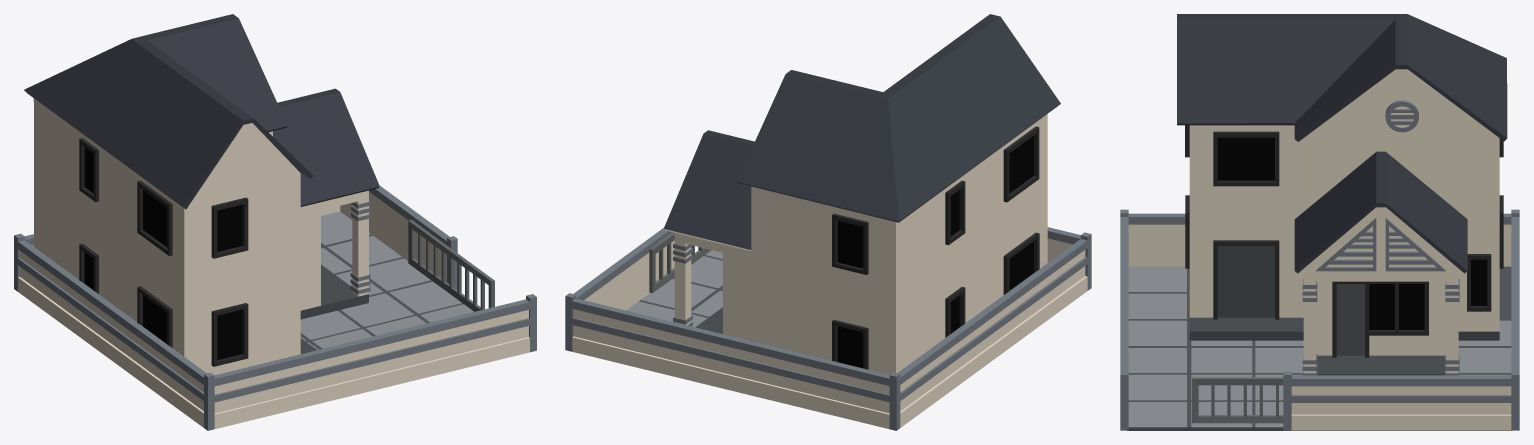
File: house3.glb
The picture shows the model from 3 angles, left to right: view 1: azimuth 30°, elevation 25°; view 2: azimuth 150°, elevation 25°; view 3: azimuth 270°, elevation 25°; orthographic projection. The views are drawn at different scales.
Parts seen in each view (by area): view 1: house3; view 2: house3; view 3: house3.
Boxes of the visible parts, <box> form: house3: <box>14,14,536,430</box>; house3: <box>565,14,1091,430</box>; house3: <box>1120,14,1519,430</box>.
Bounding box in the file's own units: 9.6 × 7.76 × 9.8.
